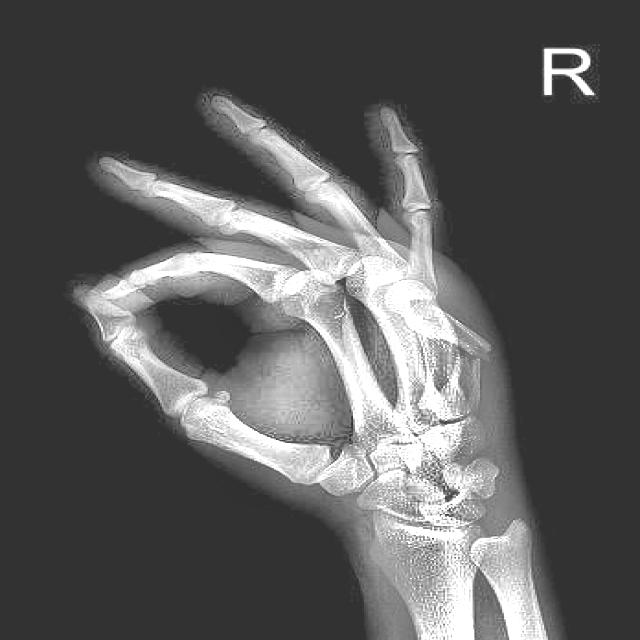fracture: (447, 342, 493, 369)
